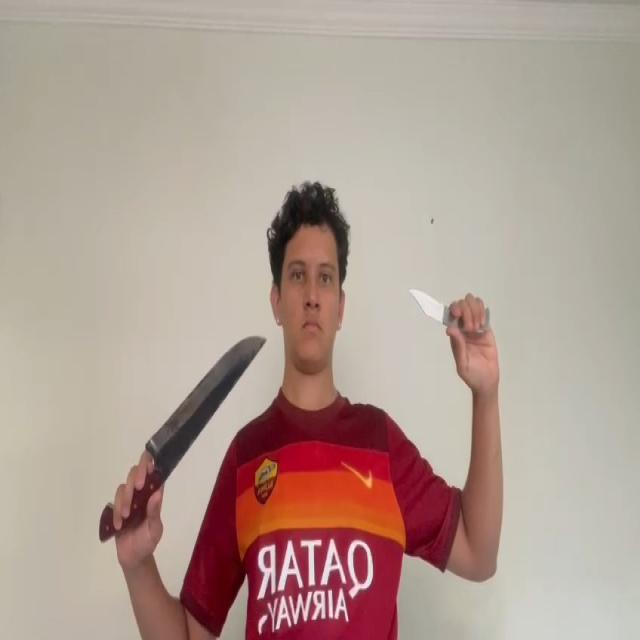knife: (145, 333, 268, 459), (408, 287, 443, 322)
